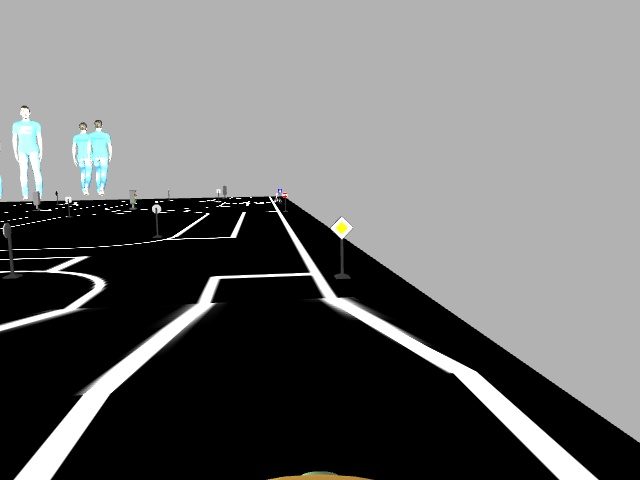Priority: (326, 214, 355, 239)
